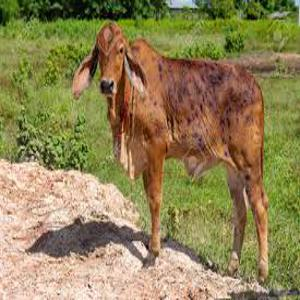lumpy skin diesease: (71, 21, 270, 284)
